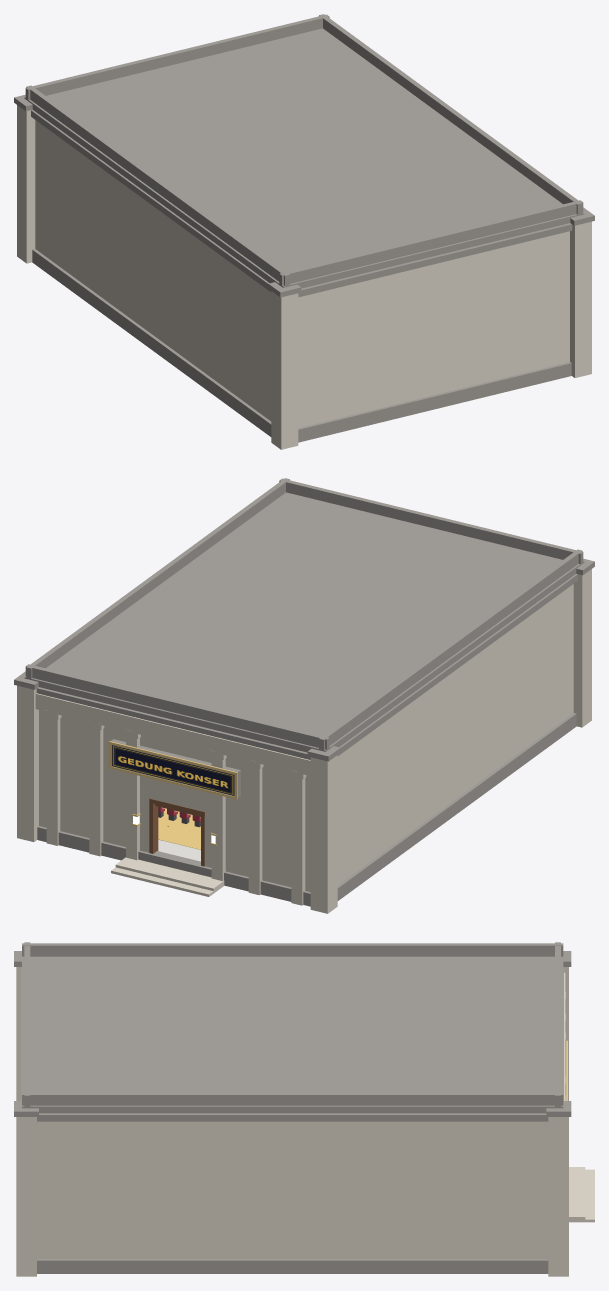
The model's file is gedung-konser-blender-v1.glb.
3 renders of one model, top to bottom at view 1: azimuth 30°, elevation 25°; view 2: azimuth 150°, elevation 25°; view 3: azimuth 270°, elevation 25°, orthographic. The views are drawn at different scales.
Parts seen in each view (by area): view 1: GK_Shell, GK_Roof; view 2: GK_Roof, GK_Shell, GK_Sign, GK_Floor, GK_Doors; view 3: GK_Shell, GK_Roof.
Boxes of the visible parts, x1=… form: GK_Shell: x1=14, y1=94, x2=594, y2=449; GK_Roof: x1=24, y1=14, x2=584, y2=288; GK_Roof: x1=24, y1=478, x2=584, y2=752; GK_Shell: x1=14, y1=558, x2=594, y2=913; GK_Sign: x1=108, y1=739, x2=240, y2=799; GK_Floor: x1=158, y1=807, x2=200, y2=861; GK_Doors: x1=149, y1=798, x2=204, y2=866; GK_Shell: x1=14, y1=951, x2=594, y2=1276; GK_Roof: x1=22, y1=942, x2=563, y2=1113.
Bounding box in the file's own units: 25.7 × 13.35 × 39.3.
14 materials, 1 textured.
